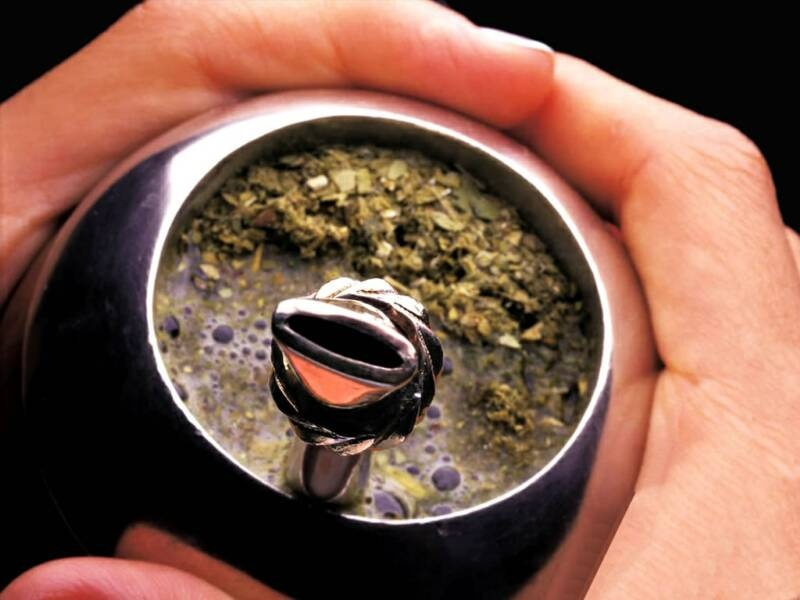guampa: (46, 121, 609, 593)
